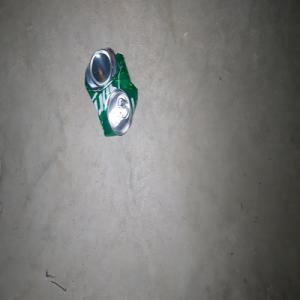SodaCan: (84, 47, 138, 136)
